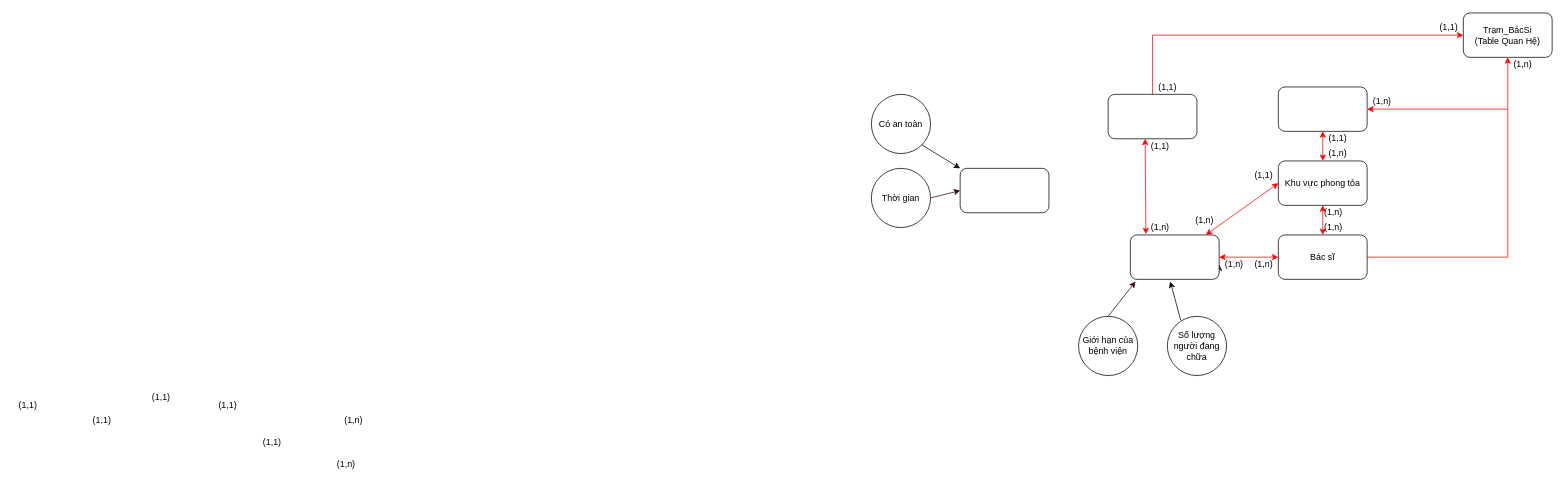
Some shapes in this 1565 by 485 pixel diagram are drawn without their labels. The shapes that lost their labels are listed below. From the top down, each one's centre as x and y in pixels, then its label:
the point at 1152,116: Trạm y tế
the point at 1322,108: Hộ có dương tính
the point at 1004,190: Vị trí của tôi
the point at 1174,256: Bệnh viện
